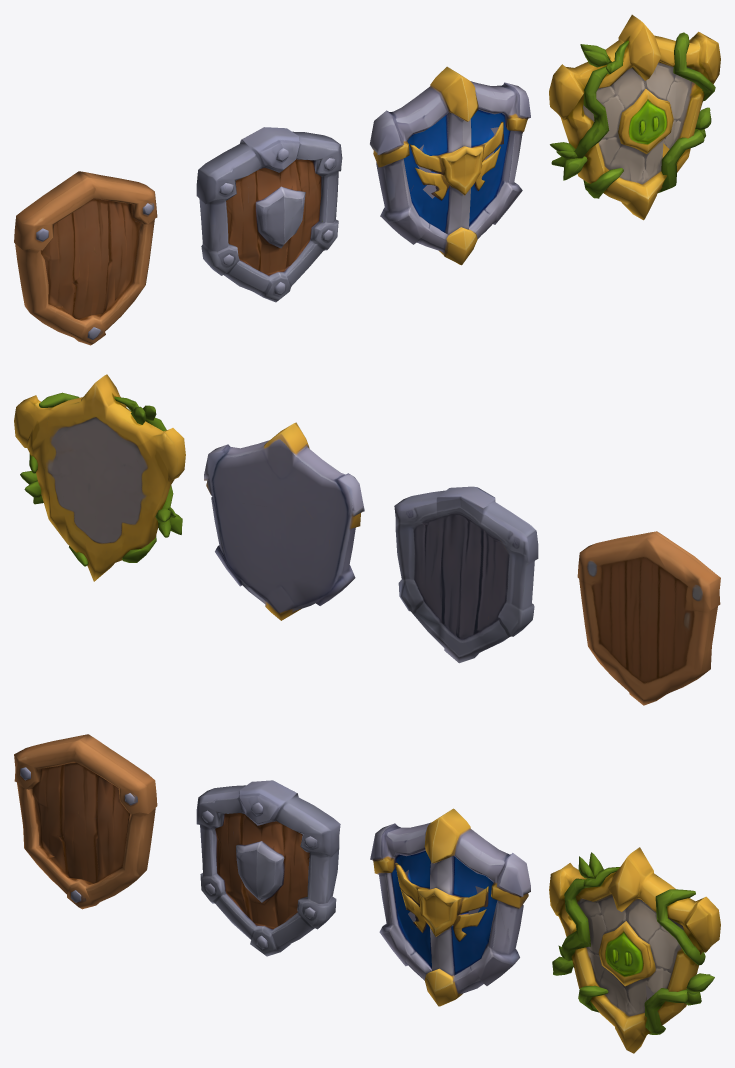
File: shield.glb
3 views of the same model, one above another, from view 1: azimuth 30°, elevation 25°; view 2: azimuth 150°, elevation 25°; view 3: azimuth 330°, elevation 25° (orthographic).
Parts seen in each view (by area): view 1: geometry_0; view 2: geometry_0; view 3: geometry_0.
Part boxes in pixels (<box>): geometry_0: <box>14,14,720,345</box>; geometry_0: <box>14,374,720,705</box>; geometry_0: <box>14,734,720,1053</box>.
Size of the model in its own units: 0.9541 by 0.2612 by 0.0703.
Materials: 1 (1 with a texture image).
